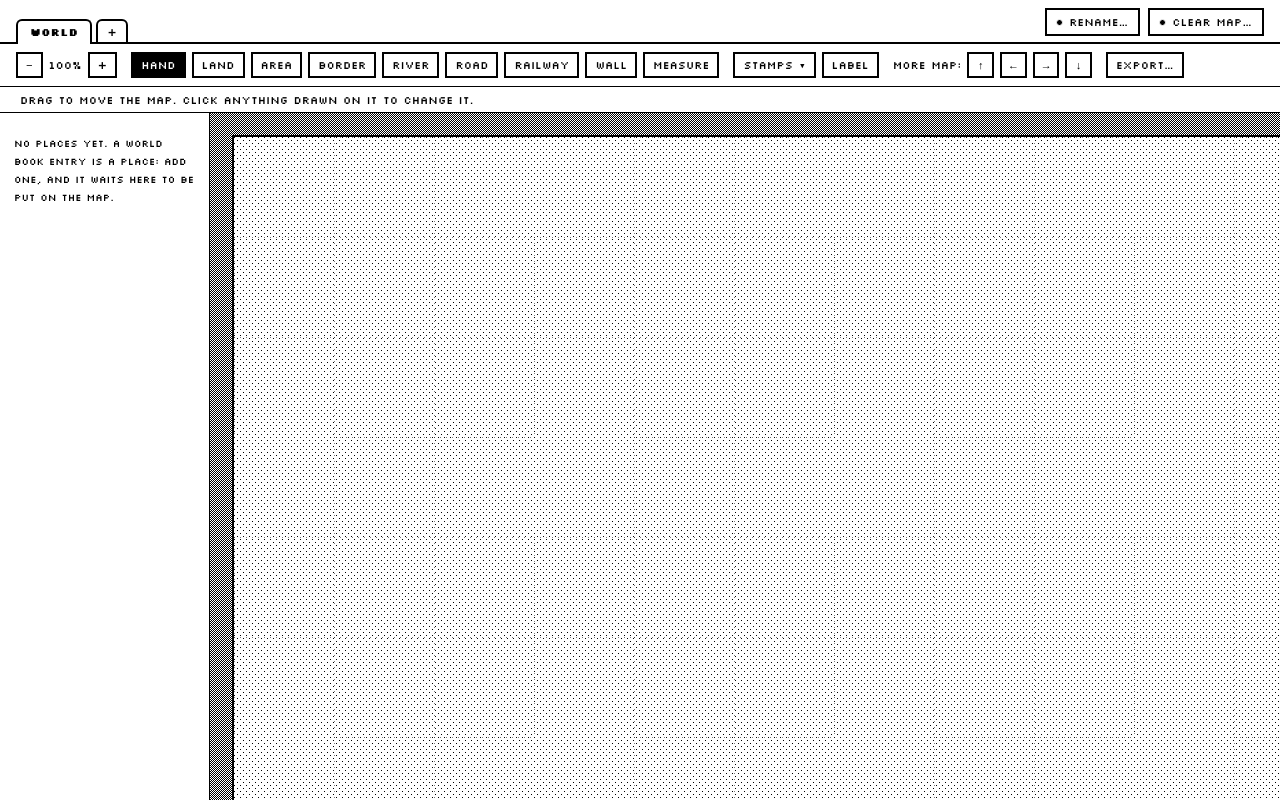
Test: setting the scale › closes on Esc without leaving the map or saving
Click the button "Measure" at point(681, 65), box [643,52,720,78]
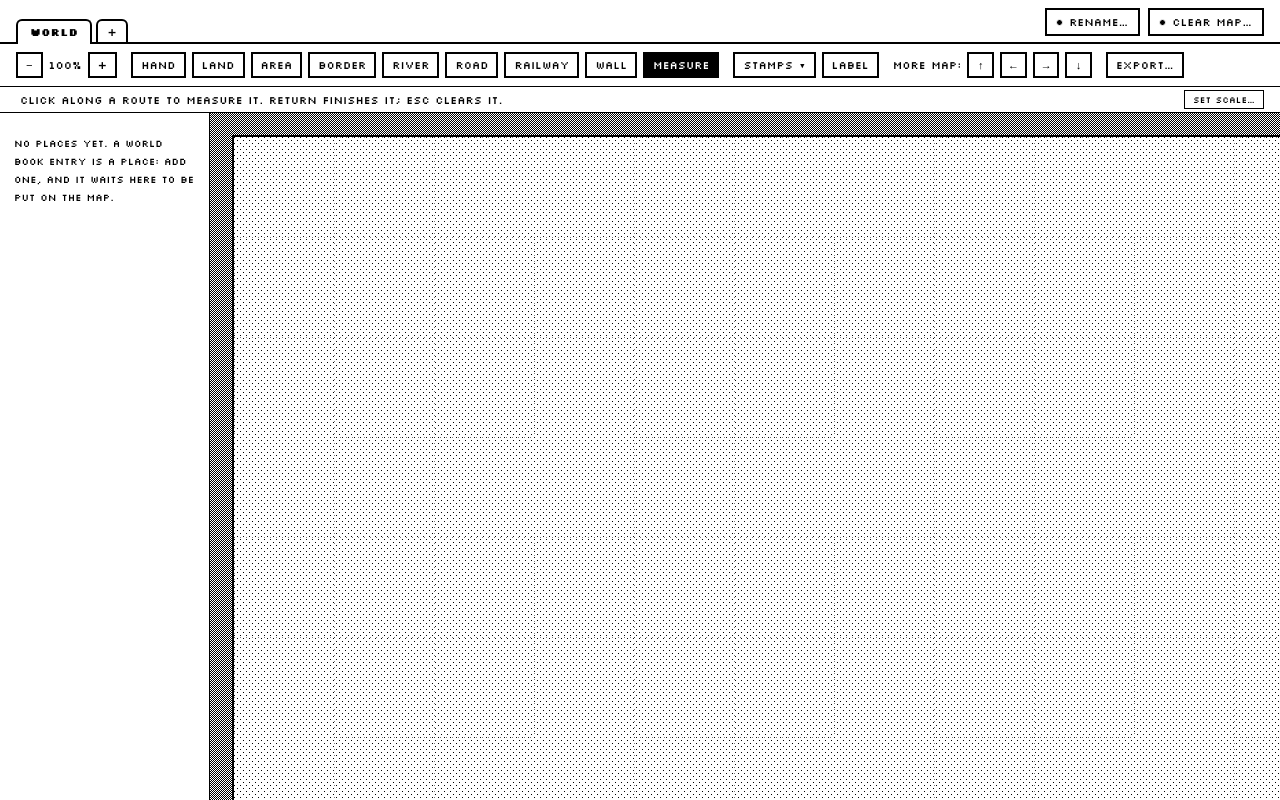
Click the button "Set Scale…" at point(1224, 100), box [1184,90,1264,109]
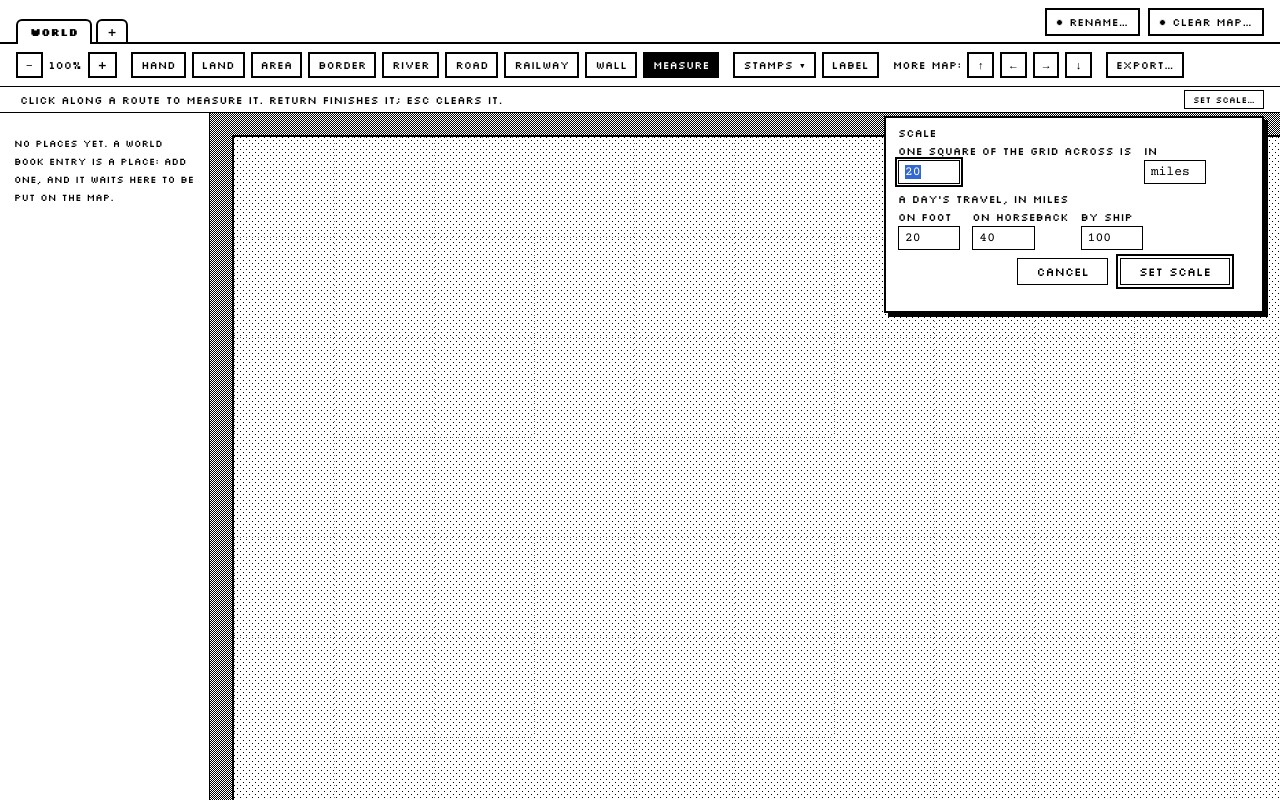
Press Escape in the field labelled "One square of the grid across is", box [898,160,960,184]
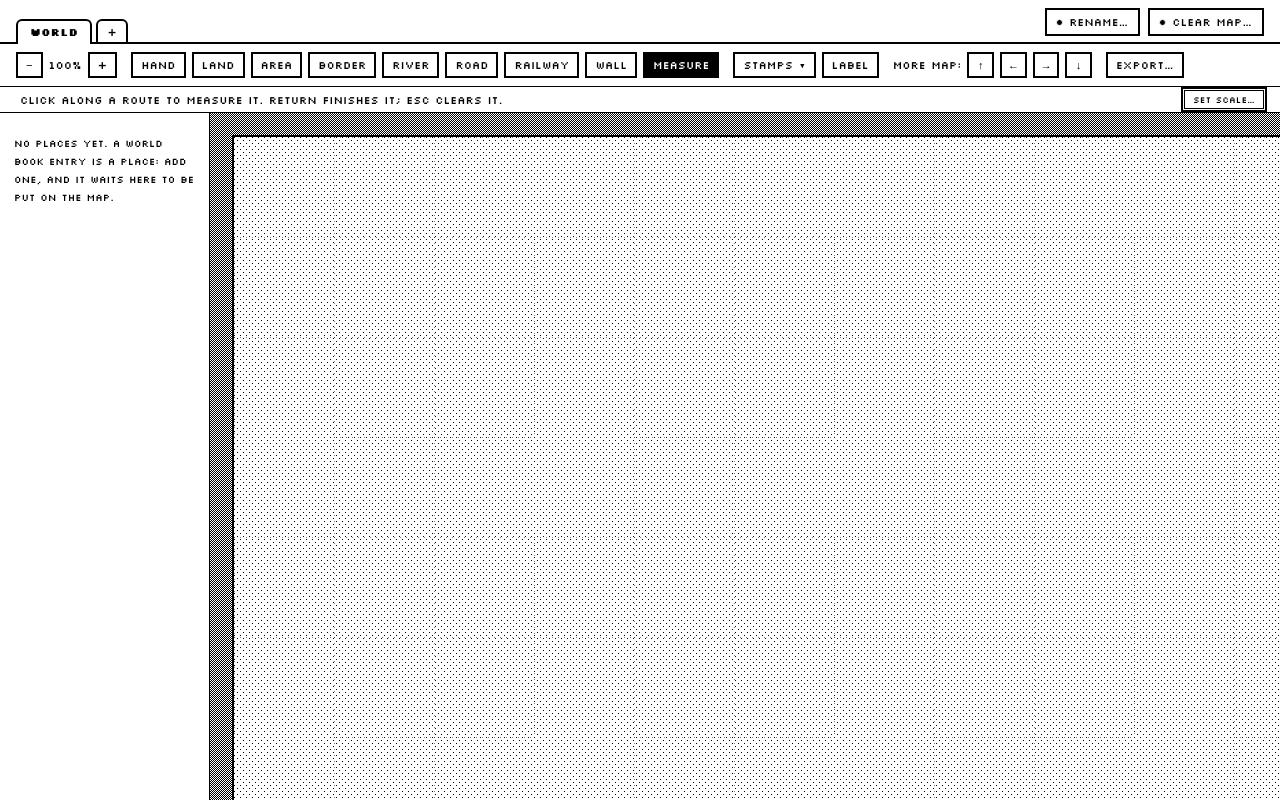
Expected: the dialog with class "map-scale-panel" is gone
